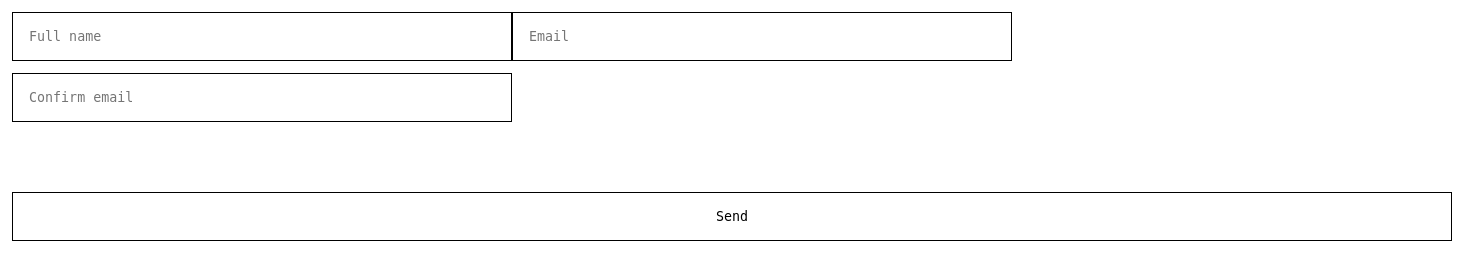
Test: Invitation Form › Validations › should display error messages for required fields
Click the button at [732, 216], box [12, 192, 1452, 241]
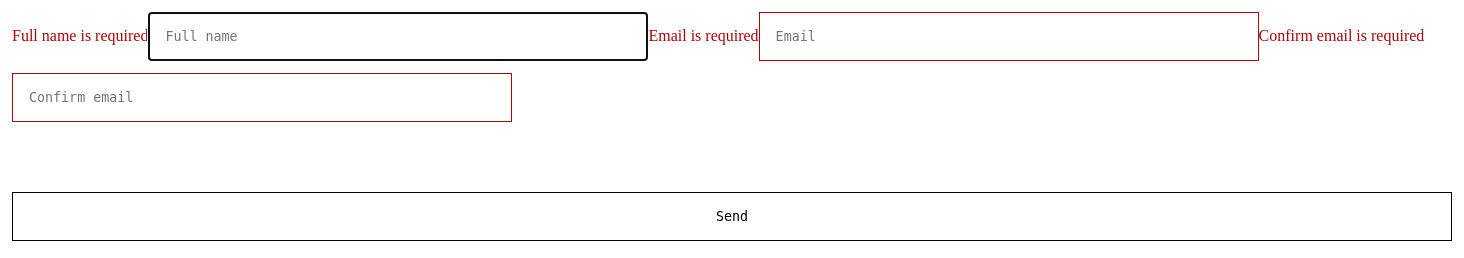
Expected: the text with id "inpFullName-error" reads "Full name is required", [12, 27, 148, 44]
Expected: the text with id "inpEmail-error" reads "Email is required", [648, 27, 759, 44]
Expected: the text with id "inpConfirmEmail-error" reads "Confirm email is required", [1259, 27, 1424, 44]
